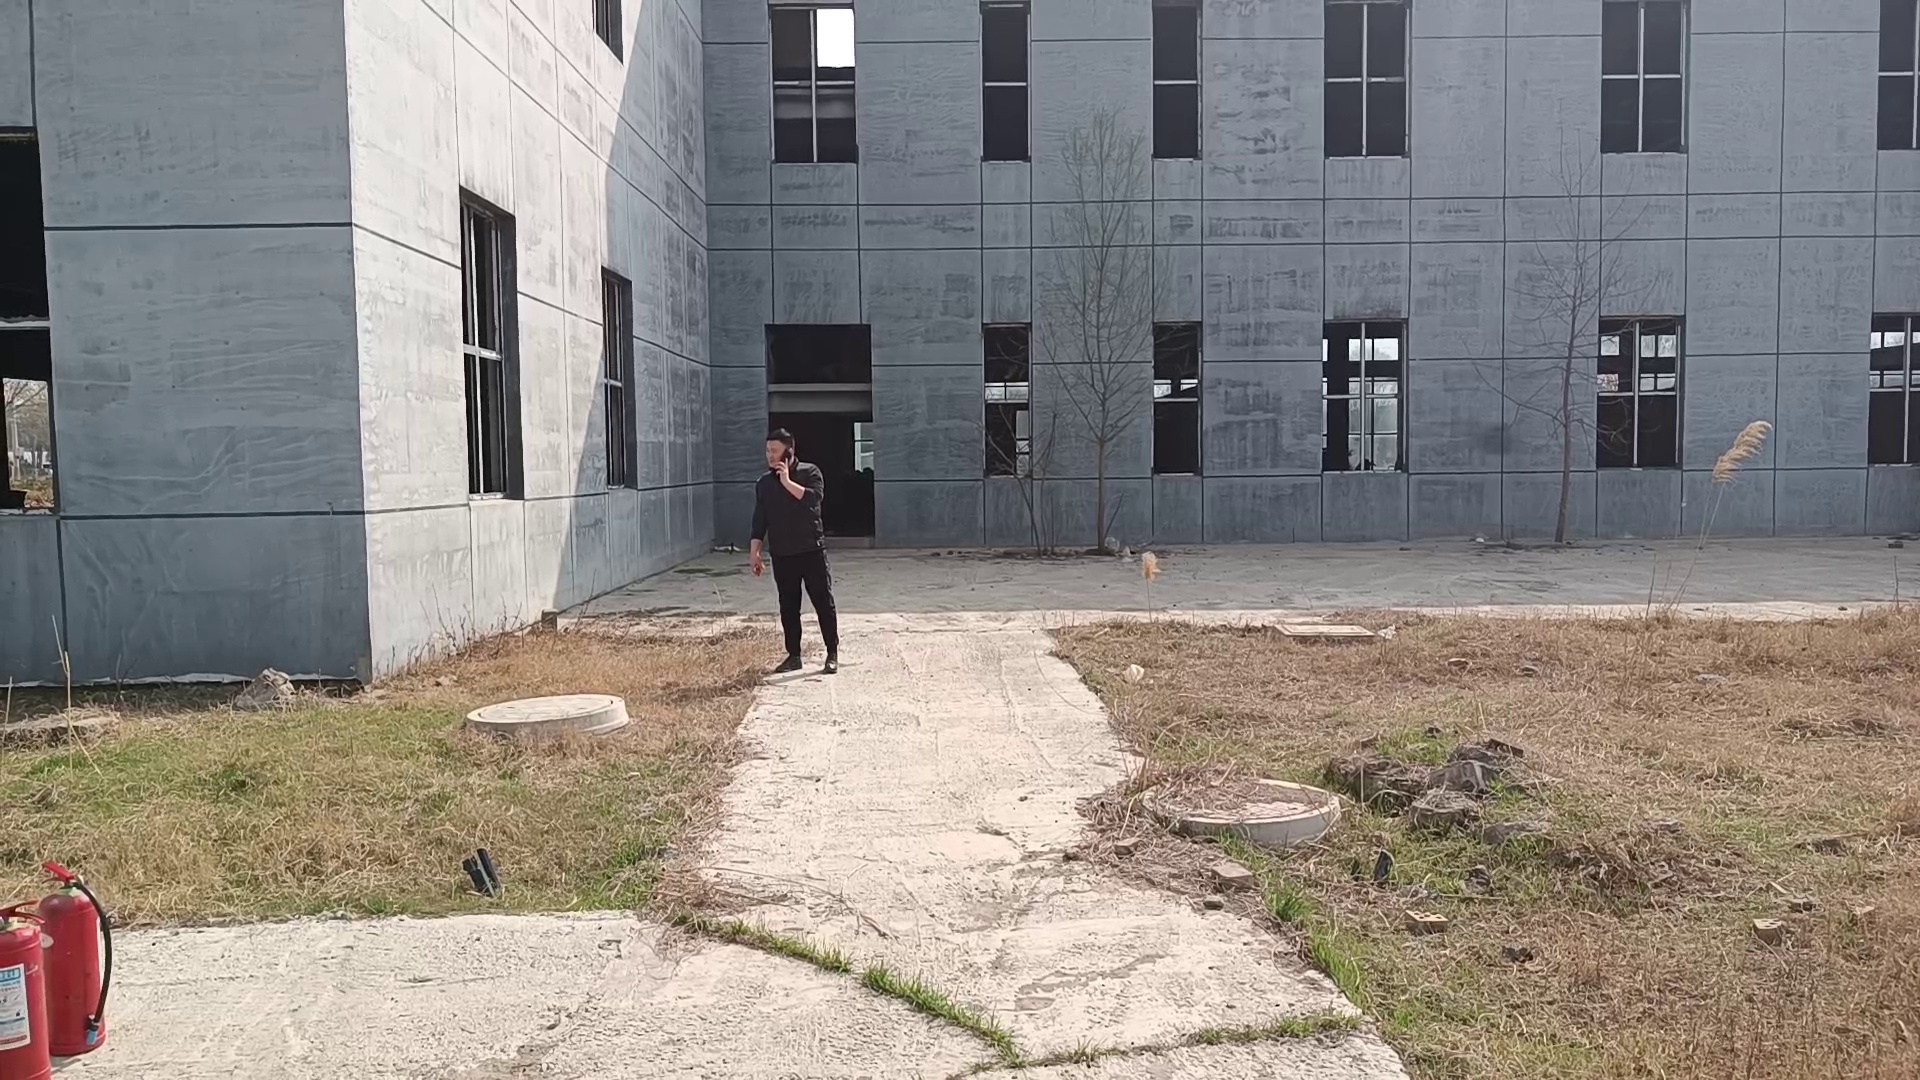phone: (760, 421, 804, 477)
